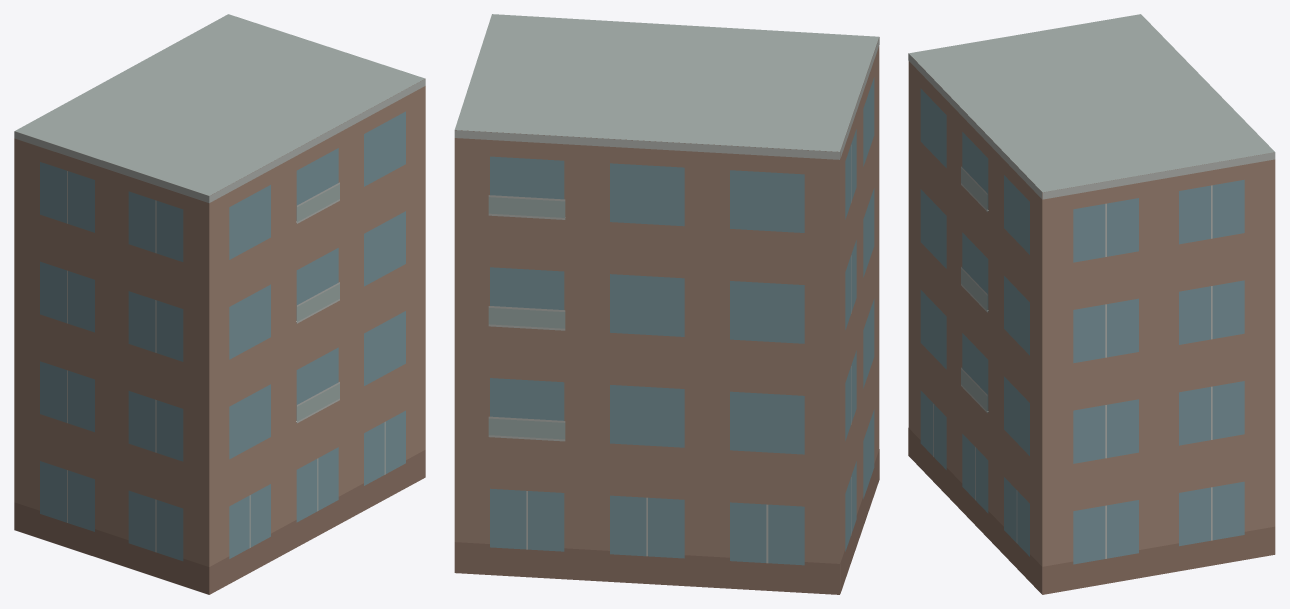
The model's file is survey-upis-32622330.glb.
3 views of the same model, side by side, from view 1: azimuth 30°, elevation 25°; view 2: azimuth 150°, elevation 25°; view 3: azimuth 270°, elevation 25° (orthographic). The views are drawn at different scales.
Parts seen in each view (by area): view 1: survey-upis-32622330.tmp; view 2: survey-upis-32622330.tmp; view 3: survey-upis-32622330.tmp.
Part boxes in pixels (x1,y1,x2,y2): survey-upis-32622330.tmp: (14,14,425,594); survey-upis-32622330.tmp: (454,14,879,594); survey-upis-32622330.tmp: (908,14,1275,594).
Bounding box in the file's own units: 12.84 × 13.5 × 11.16.
